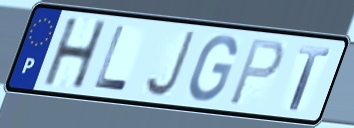G: (186, 34, 239, 104)
H: (41, 17, 110, 91)
J: (142, 29, 198, 99)
L: (92, 23, 131, 93)
P: (226, 37, 288, 108)
T: (288, 44, 333, 113)
